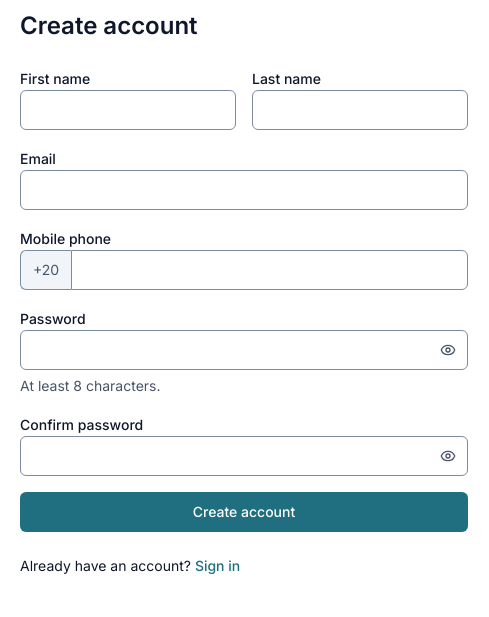
Test: SF-11 Create account › VALIDATION_FAILED → the field’s own rule text, never the backend message
The width and height of the screenshot is (489, 617).
Type " Mona " into the field labelled "First name".
click(128, 110); type(" Mona ")  # box [20,90,236,130]
Type "Ali" into the field labelled "Last name".
click(360, 110); type("Ali")  # box [252,90,468,130]
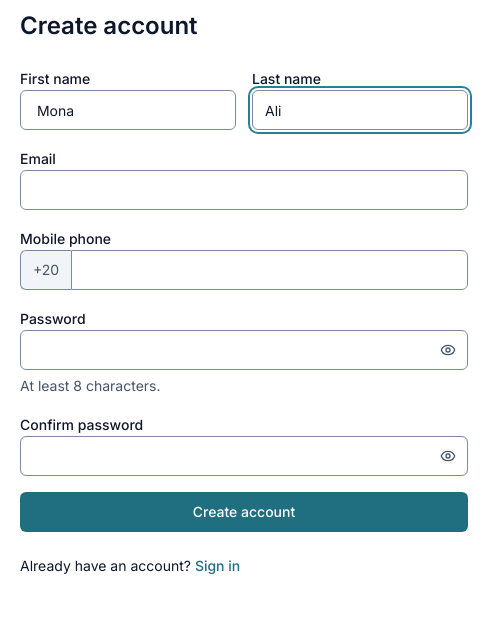
Type "Mona@Example.TEST" into the field labelled "Email".
click(244, 190); type("Mona@Example.TEST")  # box [20,170,468,210]
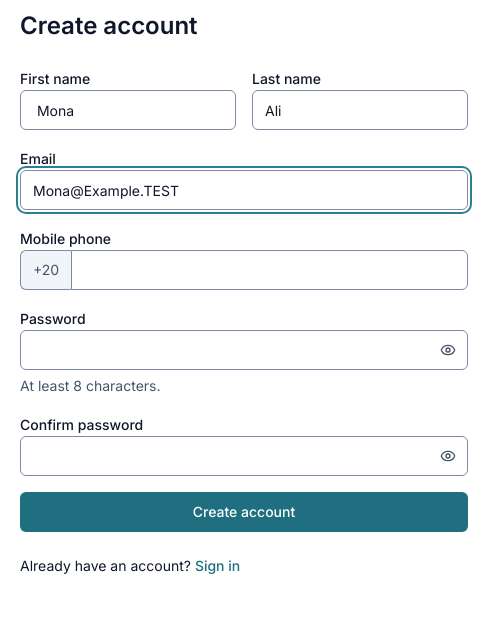
Type "01012345678" into the field labelled "Mobile phone".
click(270, 270); type("01012345678")  # box [71,250,468,290]
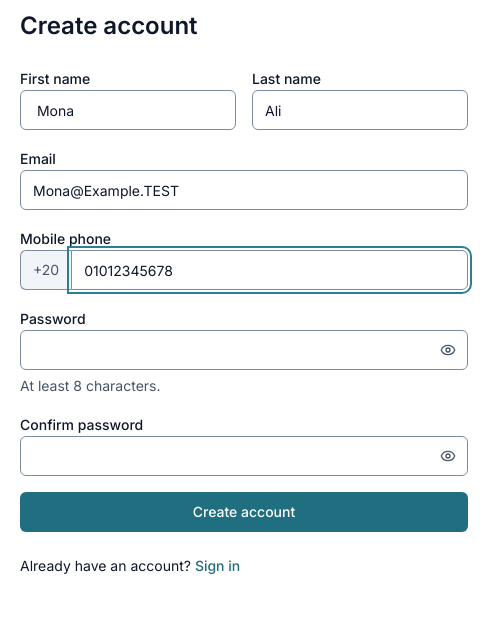
Type " long password " into the password field labelled "Password".
click(244, 350); type(" long password ")  # box [20,330,468,370]
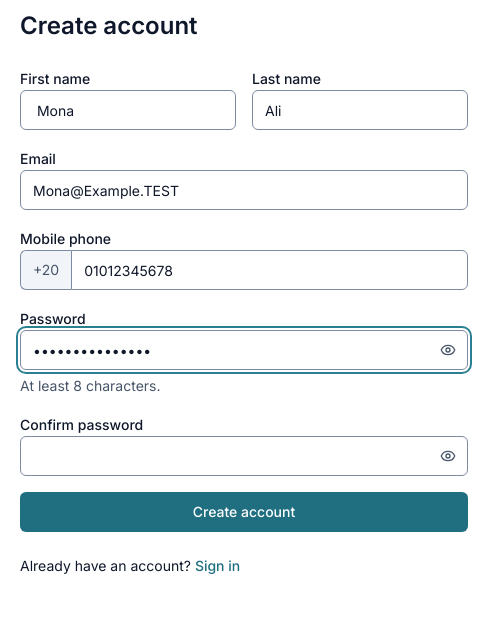
Type " long password " into the password field labelled "Confirm password".
click(244, 456); type(" long password ")  # box [20,436,468,476]
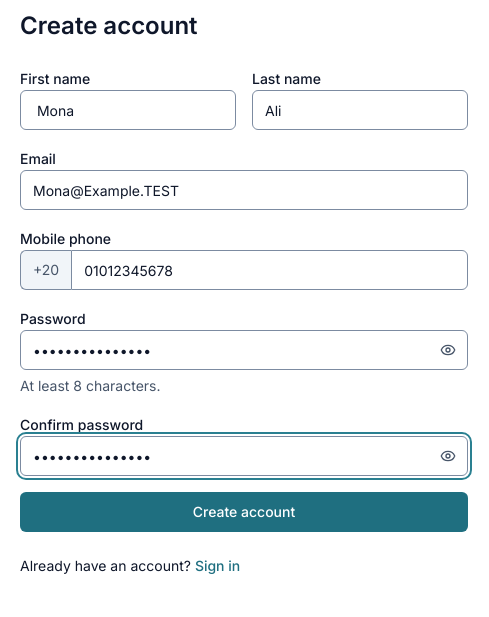
Click the button "Create account".
click(244, 512)  # box [20,492,468,532]
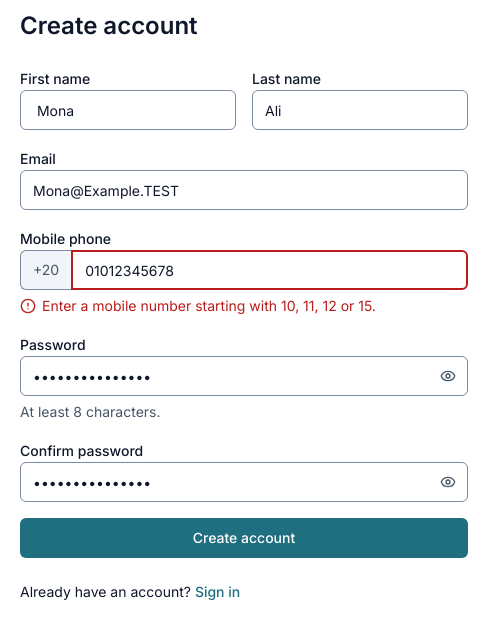
Expected: the text "Enter a mobile number starting with 10, 11, 12 or 15." is shown, [20,297,376,314]
